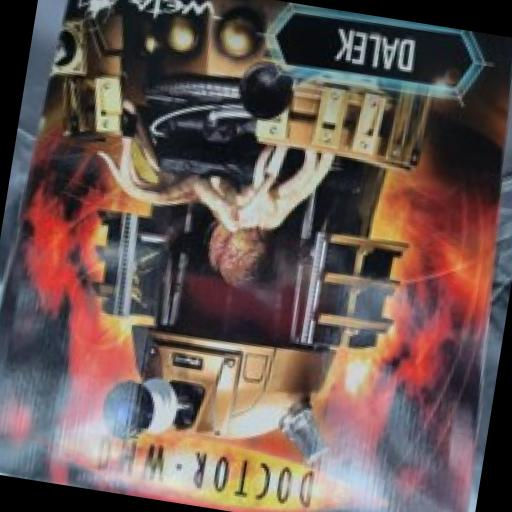dalek: (0, 0, 470, 485)
